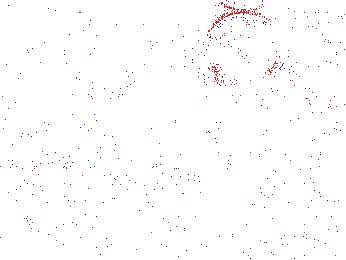moon jellyfish: (67, 4, 153, 102), (197, 11, 289, 89), (253, 48, 340, 120), (105, 16, 194, 83)
